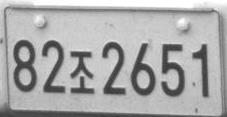1: (189, 43, 215, 97)
2: (41, 39, 66, 93), (101, 40, 125, 94)
5: (160, 42, 185, 97)
6: (130, 42, 156, 96)
8: (12, 39, 37, 92)
조: (69, 50, 95, 93)
